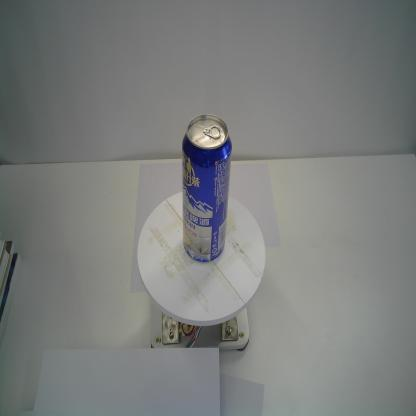Alcohol: (180, 112, 234, 265)
